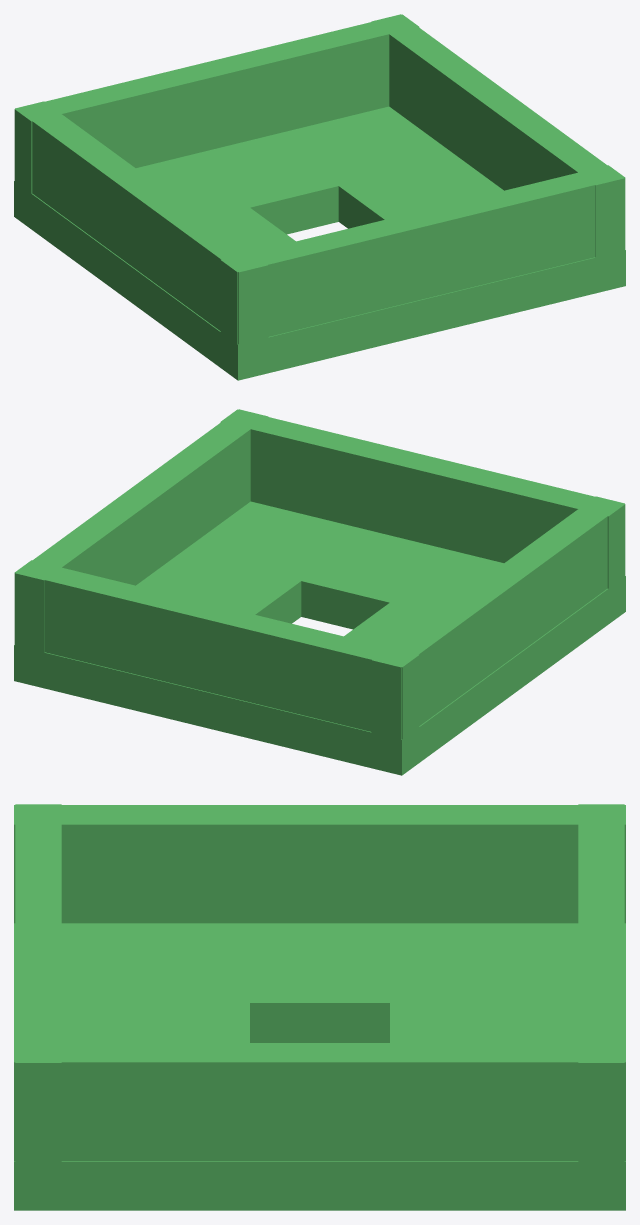
File: fortress_tower_roof_platform_collision.glb
3 views of the same model, one above another, from view 1: azimuth 30°, elevation 25°; view 2: azimuth 150°, elevation 25°; view 3: azimuth 270°, elevation 25° (orthographic). The views are drawn at different scales.
Visible parts, largest first — view 1: fortress_tower_roof_platform-col-parapet-0, fortress_tower_roof_platform-col-parapet-1, fortress_tower_roof_platform-col-parapet-2, fortress_tower_roof_platform-col-deckRight, fortress_tower_roof_platform-col-parapet-3, fortress_tower_roof_platform-col-deckLeft, fortress_tower_roof_platform-col-deckNorth, fortress_tower_roof_platform-col-deckSouth; view 2: fortress_tower_roof_platform-col-parapet-1, fortress_tower_roof_platform-col-parapet-0, fortress_tower_roof_platform-col-parapet-2, fortress_tower_roof_platform-col-deckRight, fortress_tower_roof_platform-col-parapet-3, fortress_tower_roof_platform-col-deckLeft, fortress_tower_roof_platform-col-deckSouth, fortress_tower_roof_platform-col-deckNorth; view 3: fortress_tower_roof_platform-col-parapet-2, fortress_tower_roof_platform-col-parapet-3, fortress_tower_roof_platform-col-deckLeft, fortress_tower_roof_platform-col-deckRight, fortress_tower_roof_platform-col-parapet-0, fortress_tower_roof_platform-col-parapet-1, fortress_tower_roof_platform-col-deckNorth, fortress_tower_roof_platform-col-deckSouth.
Part boxes in pixels (x1=…): fortress_tower_roof_platform-col-parapet-0: x1=220, y1=165, x2=625, y2=344; fortress_tower_roof_platform-col-parapet-1: x1=14, y1=14, x2=419, y2=193; fortress_tower_roof_platform-col-parapet-2: x1=15, y1=101, x2=268, y2=344; fortress_tower_roof_platform-col-deckRight: x1=270, y1=106, x2=625, y2=322; fortress_tower_roof_platform-col-parapet-3: x1=371, y1=14, x2=624, y2=257; fortress_tower_roof_platform-col-deckLeft: x1=14, y1=157, x2=387, y2=380; fortress_tower_roof_platform-col-deckNorth: x1=181, y1=135, x2=338, y2=234; fortress_tower_roof_platform-col-deckSouth: x1=387, y1=286, x2=476, y2=343; fortress_tower_roof_platform-col-parapet-1: x1=14, y1=560, x2=419, y2=739; fortress_tower_roof_platform-col-parapet-0: x1=220, y1=409, x2=625, y2=588; fortress_tower_roof_platform-col-parapet-2: x1=371, y1=496, x2=624, y2=740; fortress_tower_roof_platform-col-deckRight: x1=14, y1=501, x2=369, y2=717; fortress_tower_roof_platform-col-parapet-3: x1=15, y1=409, x2=268, y2=652; fortress_tower_roof_platform-col-deckLeft: x1=252, y1=552, x2=625, y2=775; fortress_tower_roof_platform-col-deckSouth: x1=301, y1=530, x2=458, y2=629; fortress_tower_roof_platform-col-deckNorth: x1=163, y1=681, x2=252, y2=738; fortress_tower_roof_platform-col-parapet-2: x1=14, y1=805, x2=625, y2=923; fortress_tower_roof_platform-col-parapet-3: x1=14, y1=1043, x2=625, y2=1160; fortress_tower_roof_platform-col-deckLeft: x1=14, y1=923, x2=625, y2=1042; fortress_tower_roof_platform-col-deckRight: x1=14, y1=1161, x2=625, y2=1210; fortress_tower_roof_platform-col-parapet-0: x1=15, y1=804, x2=61, y2=1162; fortress_tower_roof_platform-col-parapet-1: x1=578, y1=804, x2=624, y2=1162; fortress_tower_roof_platform-col-deckNorth: x1=390, y1=1003, x2=625, y2=1042; fortress_tower_roof_platform-col-deckSouth: x1=14, y1=1003, x2=249, y2=1042.
Size of the model in its own units: 6.35 by 1.69 by 6.35.
